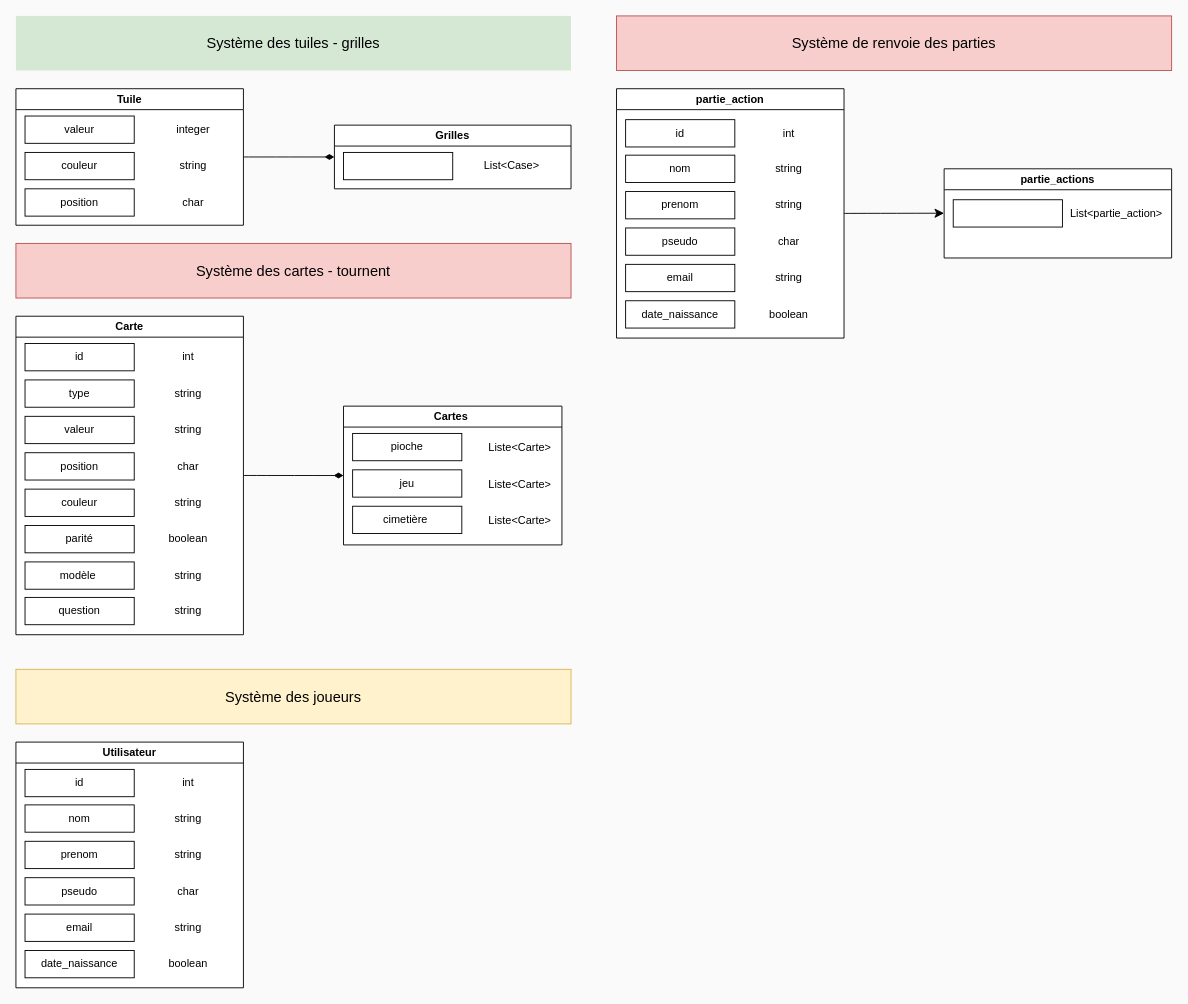
Image size: 1188x1004. Some labels were removed from this diagram. Here are the shapes that lost their labels. From the top down, the centre of each, then its label:
At (398,166): "Cases".
At (1007,213): "actions".
